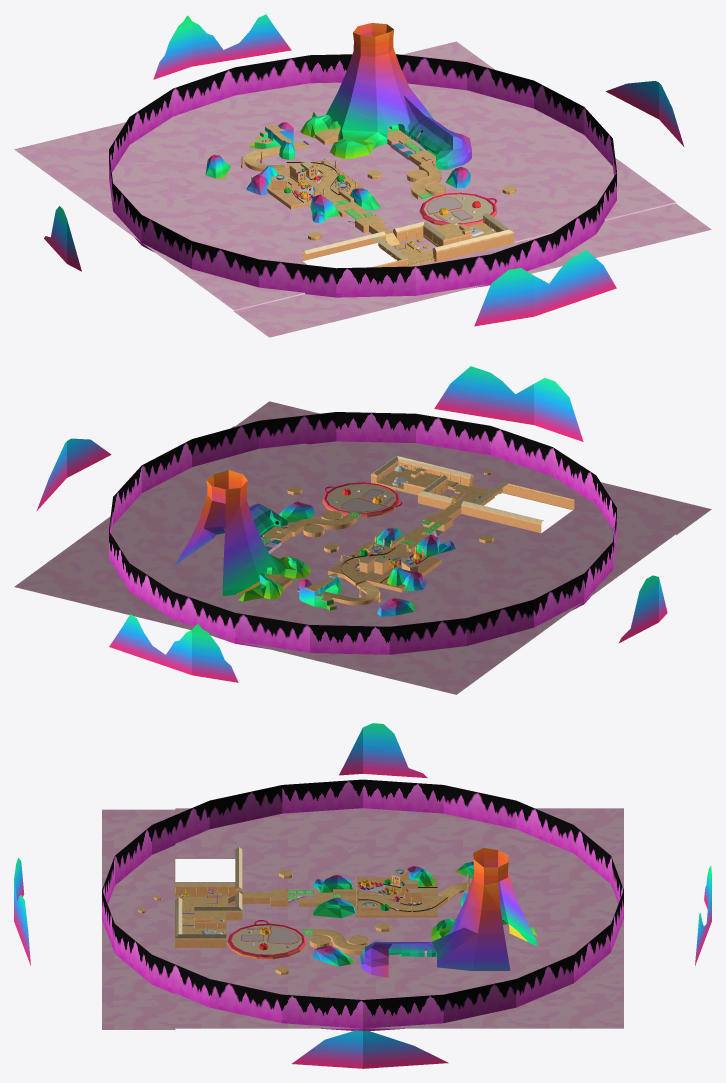
3 renders of one model, top to bottom at view 1: azimuth 30°, elevation 25°; view 2: azimuth 150°, elevation 25°; view 3: azimuth 270°, elevation 25°, orthographic. The views are drawn at different scales.
Parts seen in each view (by area): view 1: course-SKP--water1___water1, course-SKP--skybox1___skybox1, course-SKP--mountain2___mountain2, course-SKP--mountain1___mountain1, road.004___floor1, course-SKP--wall1___wall1, road.005___roof1, course-SKP--floor2___floor2, course-SKP--water2___water2, road.007___offroad1, course-SKP--pot1___pot1; view 2: course-SKP--water1___water1, course-SKP--skybox1___skybox1, course-SKP--mountain2___mountain2, course-SKP--mountain1___mountain1, road.004___floor1, course-SKP--wall1___wall1, road.005___roof1, course-SKP--floor2___floor2, road.007___offroad1, course-SKP--water2___water2, course-SKP--pot1___pot1; view 3: course-SKP--water1___water1, course-SKP--skybox1___skybox1, course-SKP--mountain2___mountain2, course-SKP--mountain1___mountain1, road.004___floor1, course-SKP--wall1___wall1, road.005___roof1, road.007___offroad1, course-SKP--water2___water2, course-SKP--floor2___floor2, course-SKP--pot1___pot1.
Part boxes in pixels (<box>): course-SKP--water1___water1: <box>14,41,711,337</box>; course-SKP--skybox1___skybox1: <box>109,54,616,297</box>; course-SKP--mountain2___mountain2: <box>44,14,684,326</box>; course-SKP--mountain1___mountain1: <box>326,23,471,169</box>; road.004___floor1: <box>241,125,516,265</box>; course-SKP--wall1___wall1: <box>241,135,516,267</box>; road.005___roof1: <box>271,161,513,259</box>; course-SKP--floor2___floor2: <box>241,127,516,267</box>; course-SKP--water2___water2: <box>277,176,492,223</box>; road.007___offroad1: <box>252,159,364,205</box>; course-SKP--pot1___pot1: <box>419,192,497,226</box>; course-SKP--water1___water1: <box>14,401,711,694</box>; course-SKP--skybox1___skybox1: <box>109,412,616,654</box>; course-SKP--mountain2___mountain2: <box>36,366,667,682</box>; course-SKP--mountain1___mountain1: <box>174,470,287,595</box>; road.004___floor1: <box>263,468,509,607</box>; course-SKP--wall1___wall1: <box>262,462,574,605</box>; road.005___roof1: <box>359,456,543,567</box>; course-SKP--floor2___floor2: <box>262,460,574,607</box>; road.007___offroad1: <box>328,542,440,588</box>; course-SKP--water2___water2: <box>326,484,412,563</box>; course-SKP--pot1___pot1: <box>322,482,402,517</box>; course-SKP--water1___water1: <box>102,808,623,1029</box>; course-SKP--skybox1___skybox1: <box>102,779,623,1030</box>; course-SKP--mountain2___mountain2: <box>14,723,711,1068</box>; course-SKP--mountain1___mountain1: <box>359,847,536,977</box>; road.004___floor1: <box>138,859,470,971</box>; course-SKP--wall1___wall1: <box>138,871,469,974</box>; road.005___roof1: <box>175,847,421,938</box>; road.007___offroad1: <box>341,877,437,913</box>; course-SKP--water2___water2: <box>231,870,402,954</box>; course-SKP--floor2___floor2: <box>138,851,469,972</box>; course-SKP--pot1___pot1: <box>227,920,306,959</box>.
Size of the model in its own units: 20003 by 3238 by 20003.
42 materials, 42 textured.
